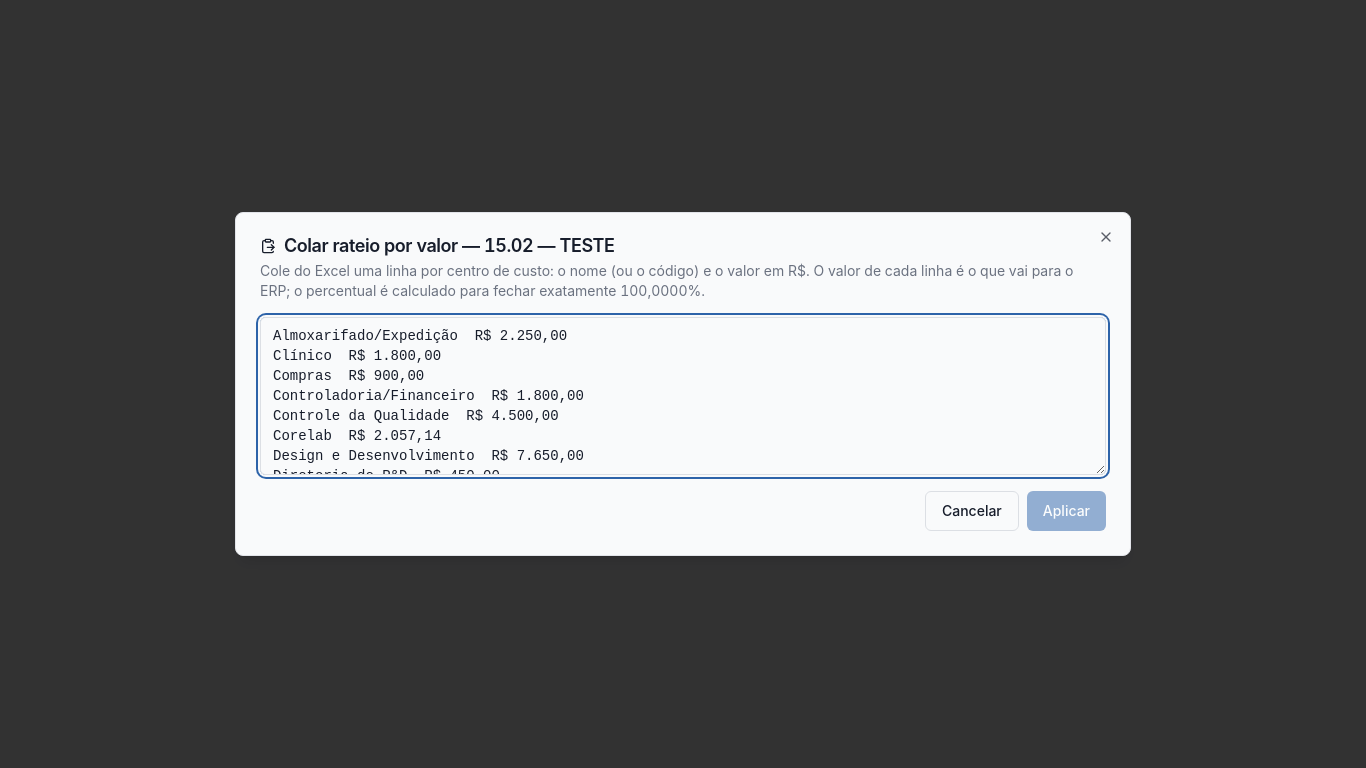
Test: ColarRateioCCDialog › depois das duas escolhas, fecha 100,0000% e aplica os 19 valores exatos
The image size is (1366, 768).
Later steps or results of the test are not shown.
Replace the text in the text box named "Lista de centros de custo e valores" with "Almoxarifado/Expedição  R$ 2.250,00 Clínico  R$ 1.800,00 Compras  R$ 900,00 Controladoria/Financeiro  R$ 1.800,00 Controle da Qualidade  R$ 4.500,00 Corelab  R$ 2.057,14 Design e Desenvolvimento  R$ 7" at (683, 396), box top-left (260, 317), bottom-right (1106, 475)
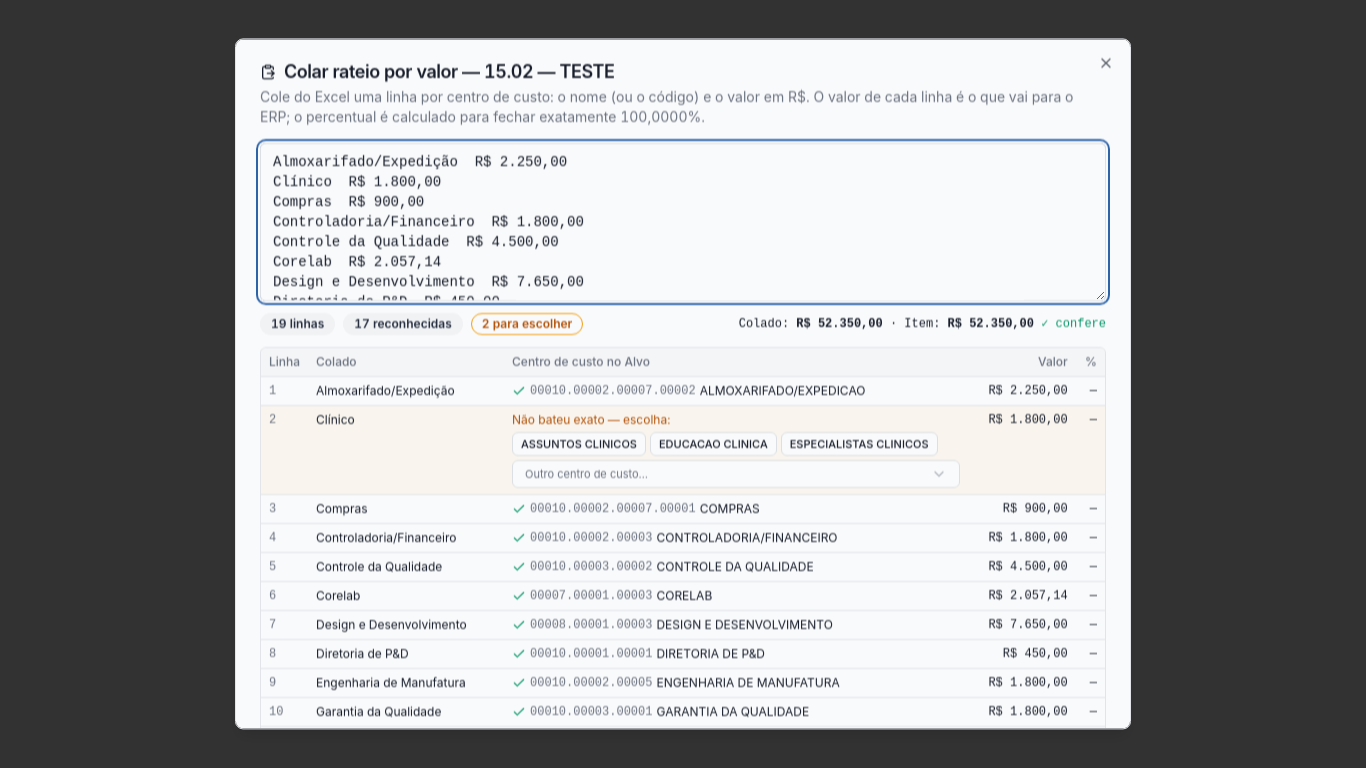
Click the button "ASSUNTOS CLINICOS" at (579, 444), box top-left (512, 432), bottom-right (646, 456)
(page scrolled)
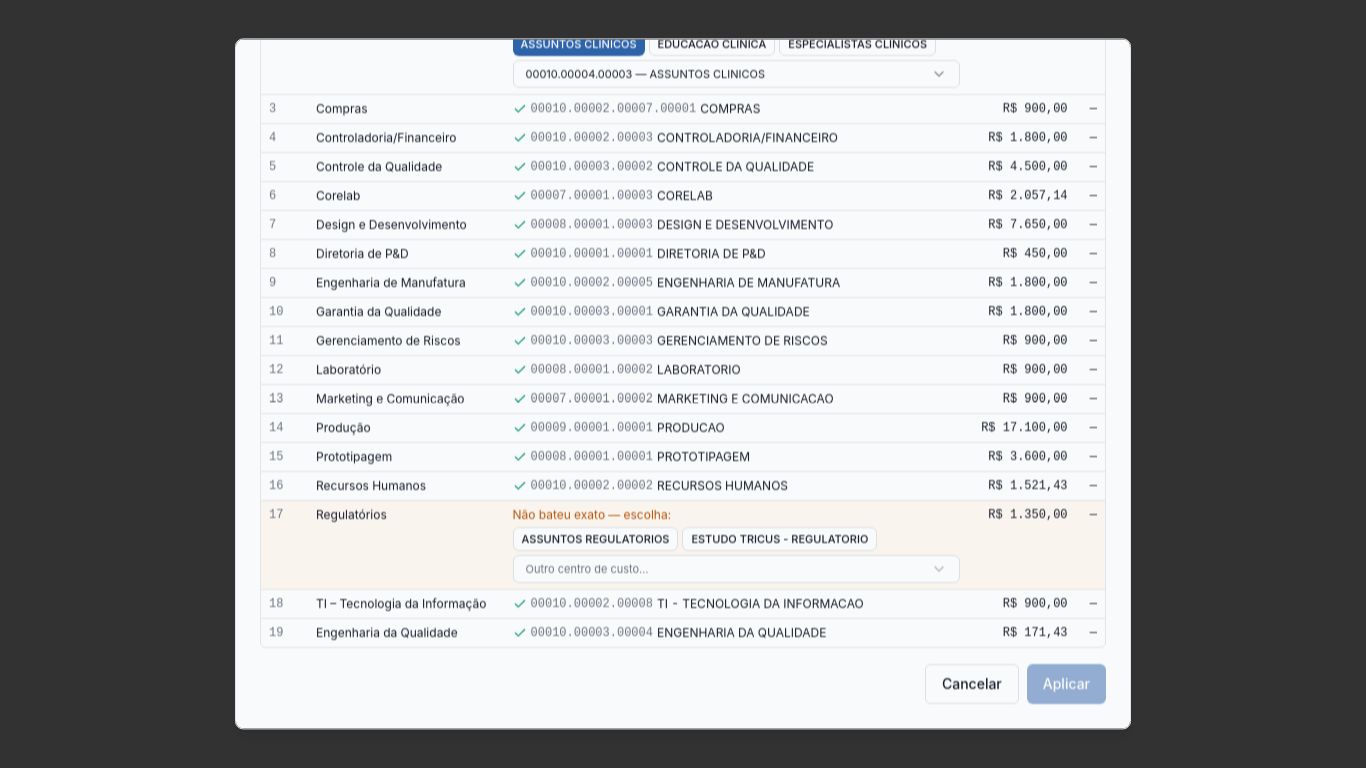
Click the button "ASSUNTOS REGULATORIOS" at (595, 539), box top-left (512, 527), bottom-right (678, 551)
(page scrolled)
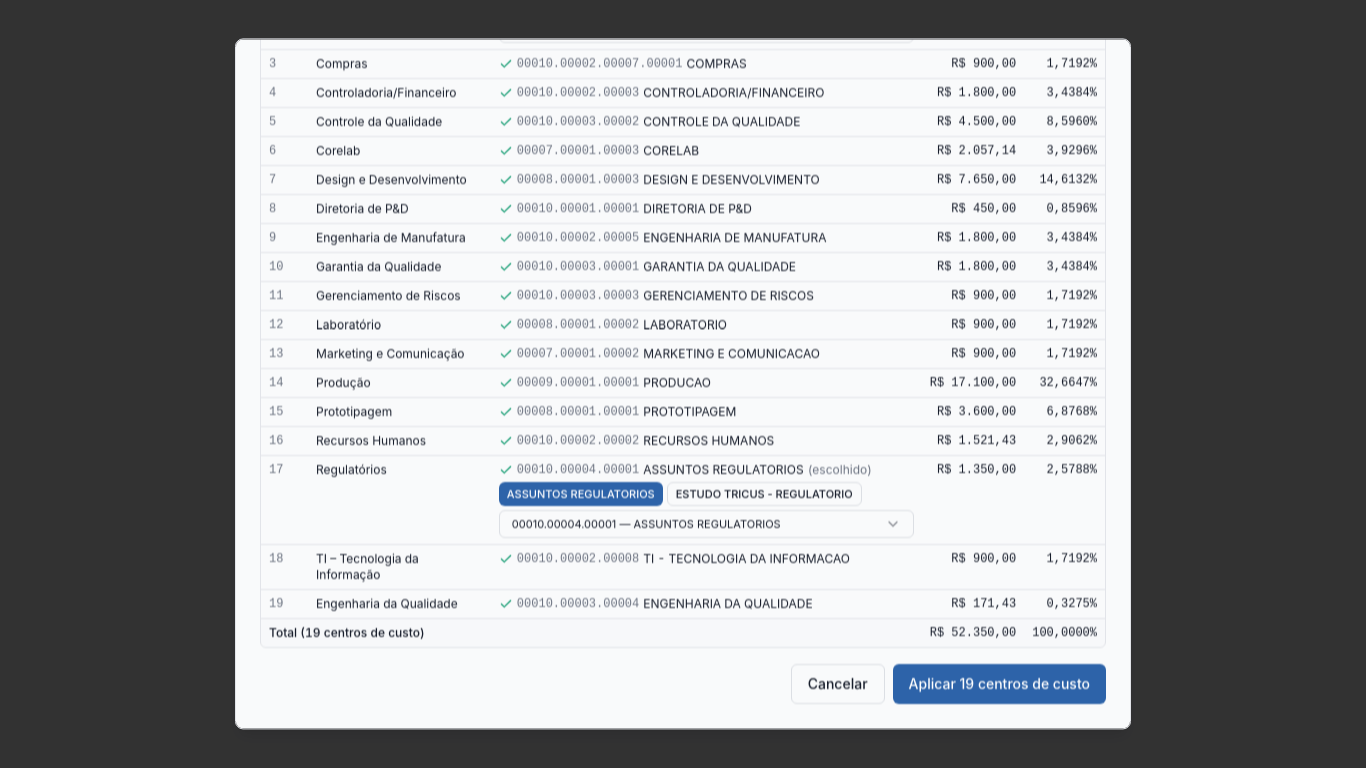
Expected: the cell "100,0000%" is shown, top-left (1024, 619), bottom-right (1105, 647)
Expected: the button "Aplicar 19 centros de custo" is enabled, top-left (893, 664), bottom-right (1106, 704)
